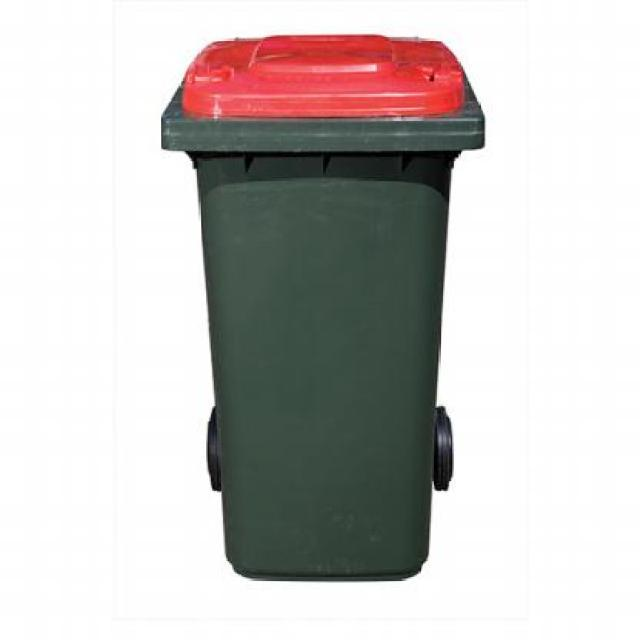garbage container: (146, 23, 494, 616)
